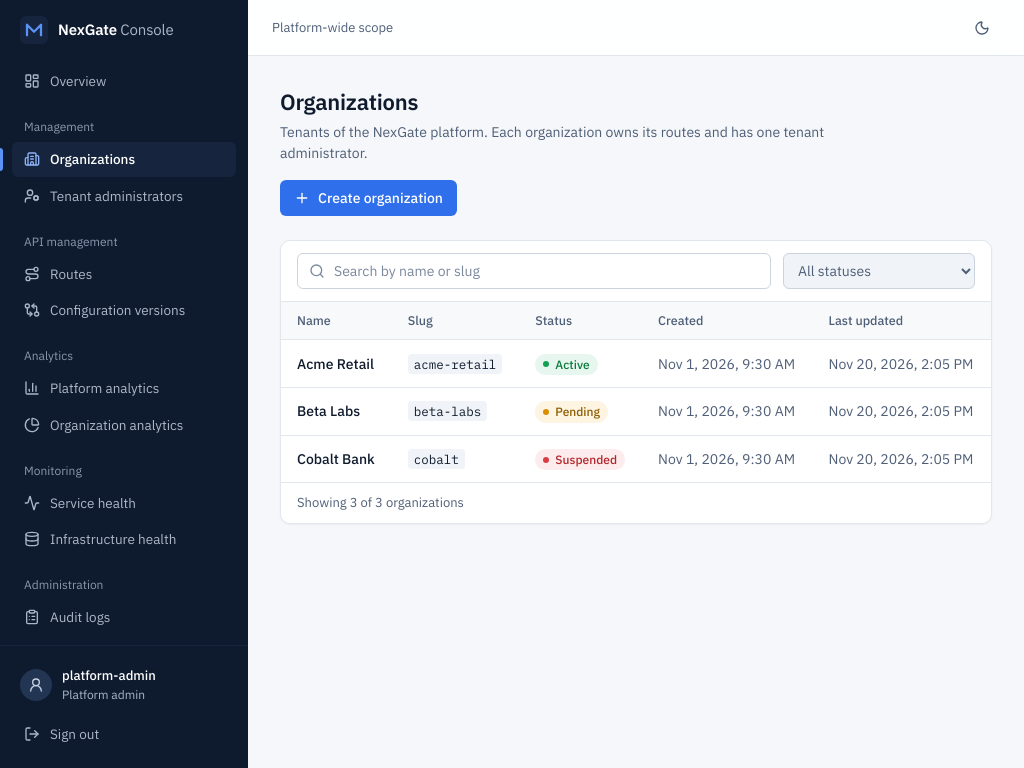
Test: organizations page › lists, searches and filters organizations from one request
The image size is (1024, 768).
Check: the link "Acme Retail" is shown, box left=297, top=355, right=374, bottom=373
Type "beta" into the search field named "Search organizations" at (534, 270), box left=297, top=252, right=771, bottom=288
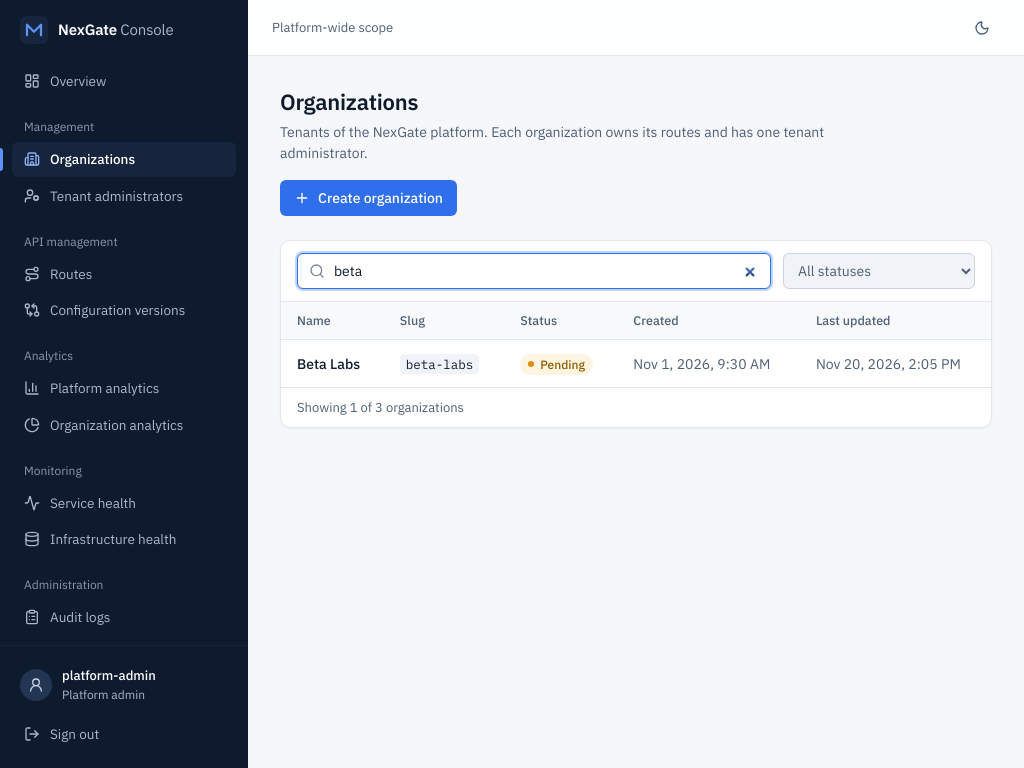
Check: the link "Beta Labs" is shown, box left=297, top=355, right=360, bottom=373
Check: the link "Acme Retail" is gone
Clear the search field named "Search organizations" at (534, 270), box left=297, top=252, right=771, bottom=288
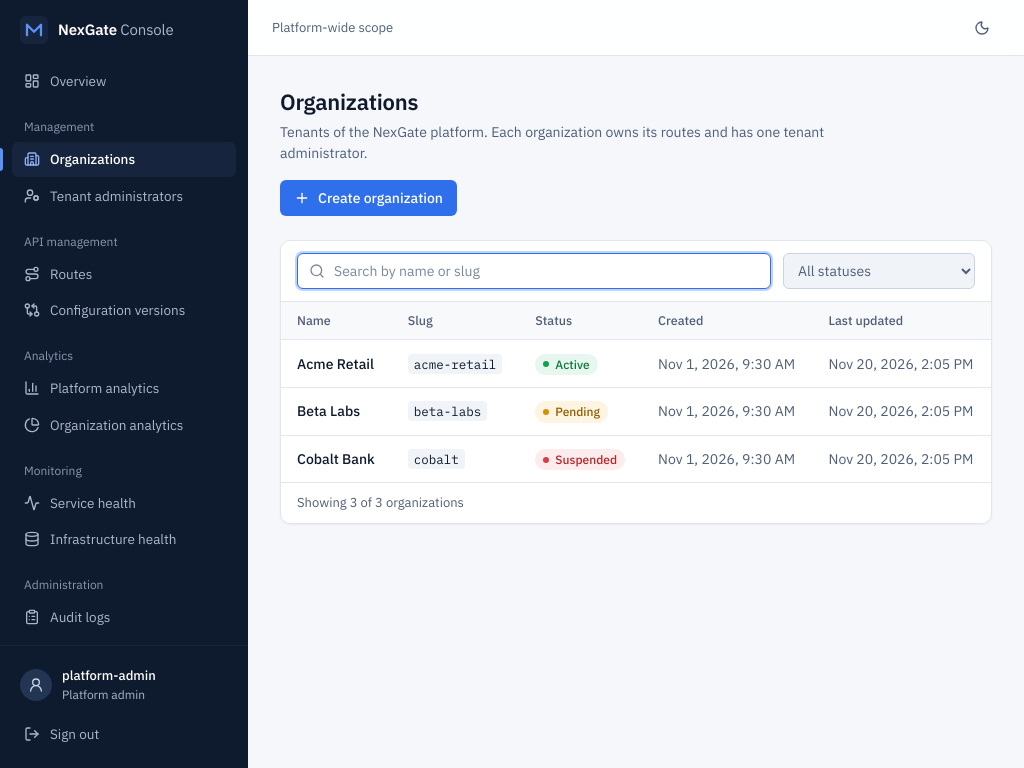
Select "Suspended" in the dropdown named "Filter by status" at (879, 270), box left=783, top=252, right=975, bottom=288
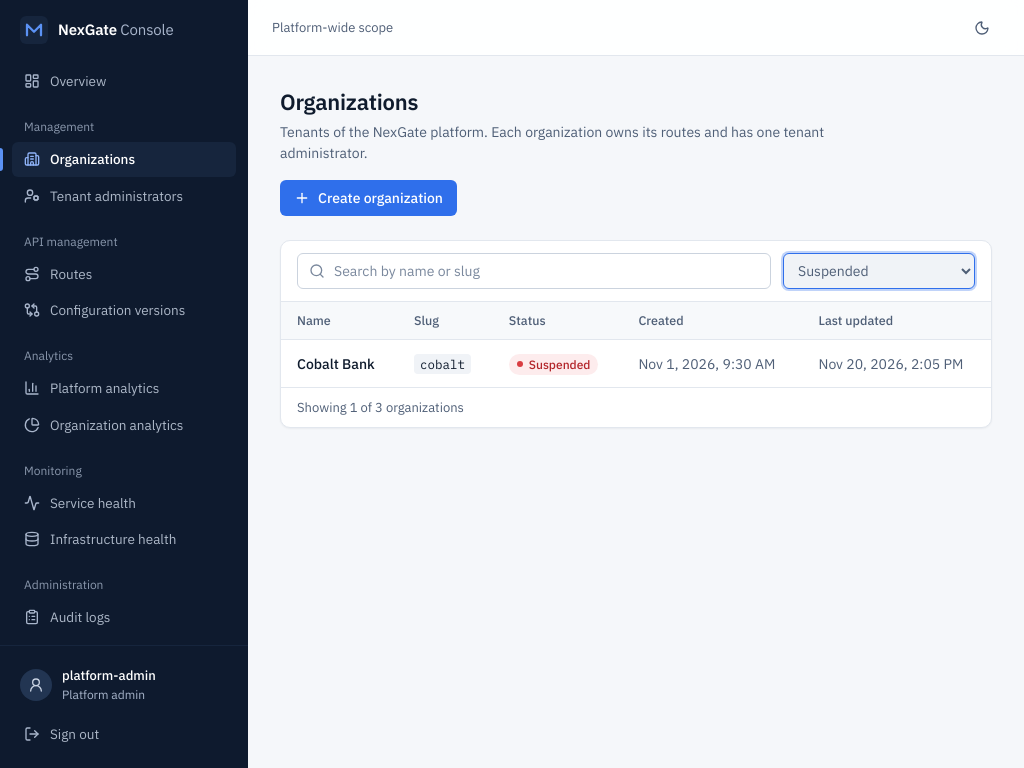
Check: the link "Cobalt Bank" is shown, box left=297, top=355, right=375, bottom=373
Check: the link "Beta Labs" is gone
